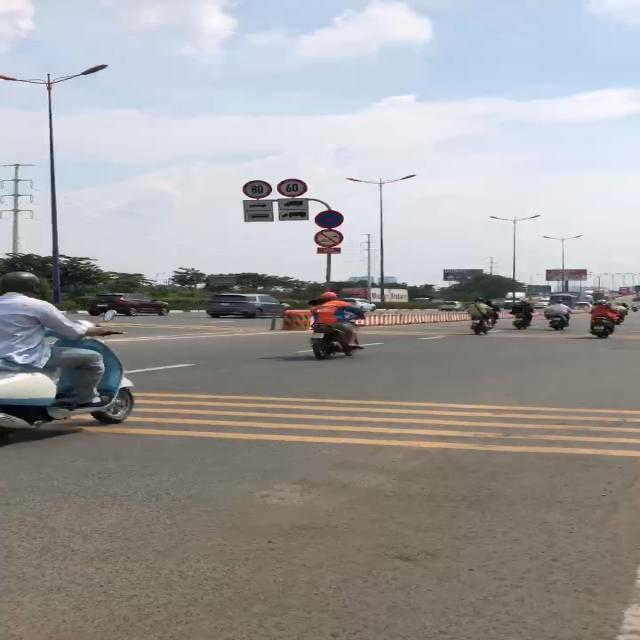Bien bao toc do toi da cho phep: (276, 178, 308, 198), (242, 180, 272, 200)
